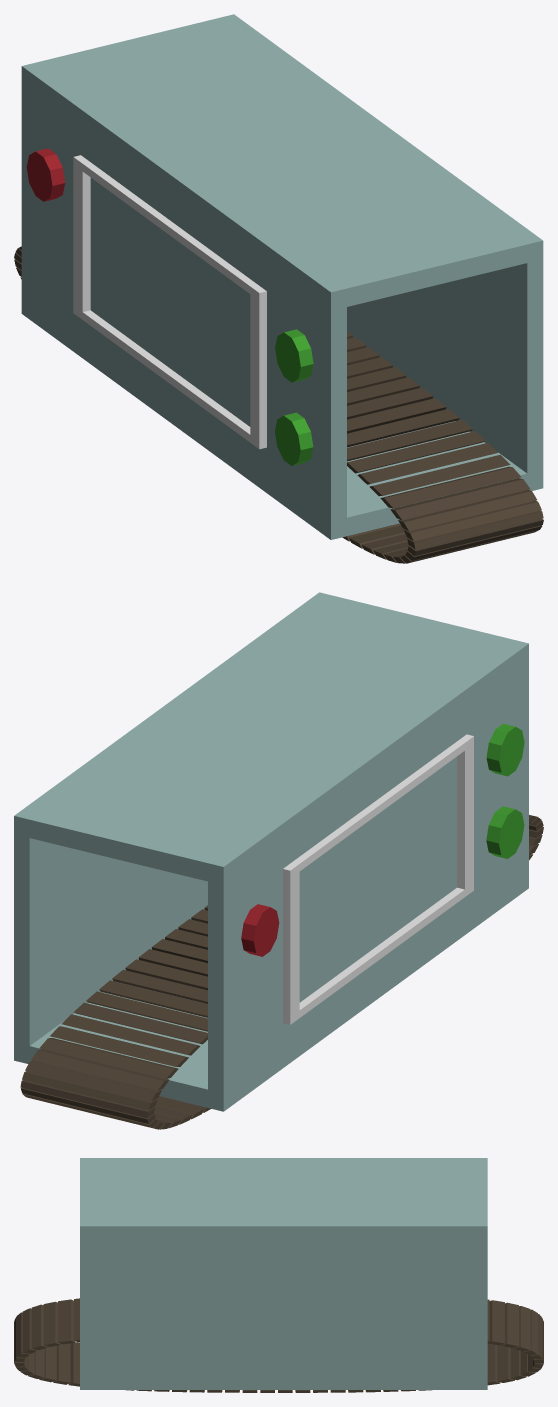
File: REPLICATOR_GEAR.fbx
3 renders of one model, top to bottom at view 1: azimuth 30°, elevation 25°; view 2: azimuth 150°, elevation 25°; view 3: azimuth 270°, elevation 25°, orthographic. The views are drawn at different scales.
Parts seen in each view (by area): view 1: Cube.001, Cube, Cube.002, Cylinder.002, Cylinder.001, Cylinder; view 2: Cube.001, Cube, Cube.002, Cylinder, Cylinder.002, Cylinder.001; view 3: Cube.001, Cube.
Part boxes in pixels (x1,y1,x2,y2): Cube.001: (21,14,543,539); Cube: (14,246,543,563); Cube.002: (73,155,266,449); Cylinder.002: (275,329,313,382); Cylinder.001: (275,412,313,465); Cylinder: (26,148,65,201); Cube.001: (14,592,528,1111); Cube: (20,815,543,1129); Cube.002: (283,734,473,1024); Cylinder: (241,904,279,956); Cylinder.002: (486,723,524,776); Cylinder.001: (486,806,524,858); Cube.001: (80,1158,487,1389); Cube: (14,1298,543,1392).
Bounding box in the file's own units: 143 × 168 × 442.
